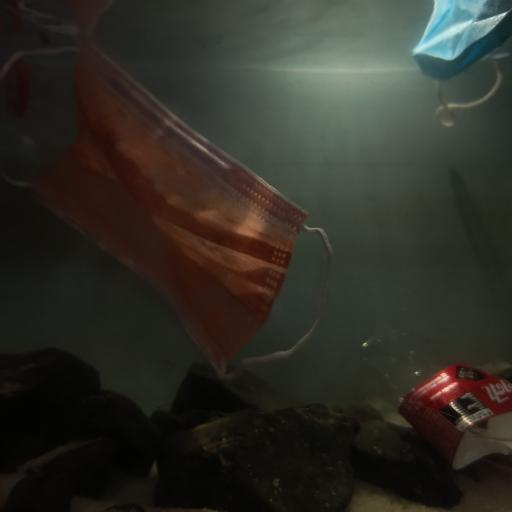mask: (0, 39, 335, 379), (414, 1, 512, 127)
plastic_bottle: (359, 322, 512, 489)
